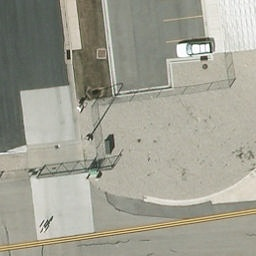car: (175, 41, 217, 59)
